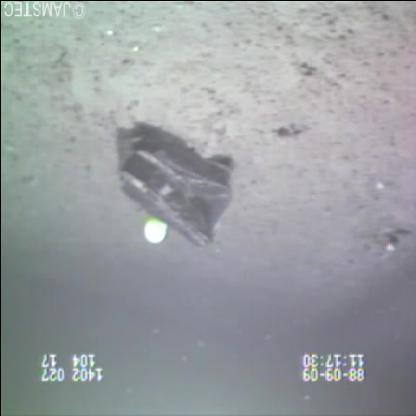Rác: (110, 119, 239, 257)
